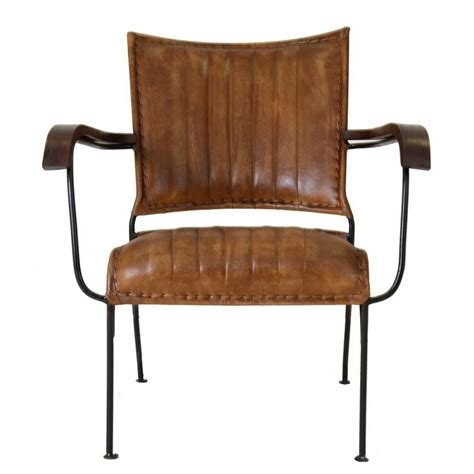cuero: (102, 26, 374, 306)
